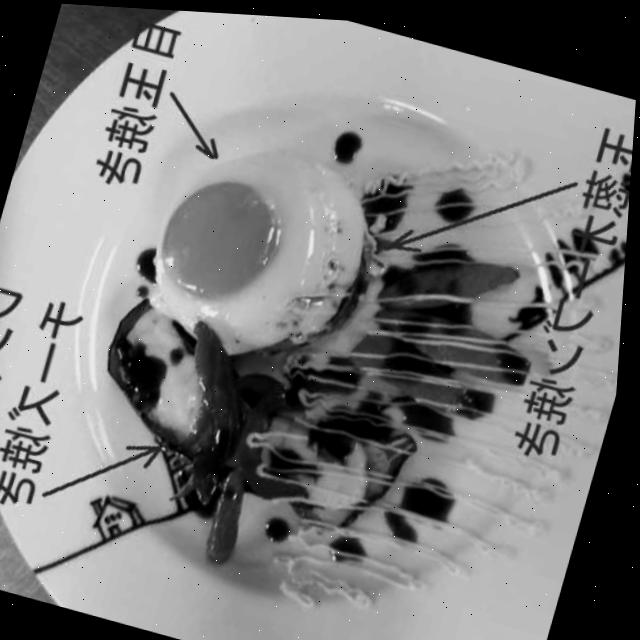鸡蛋料理: (147, 134, 376, 386)
